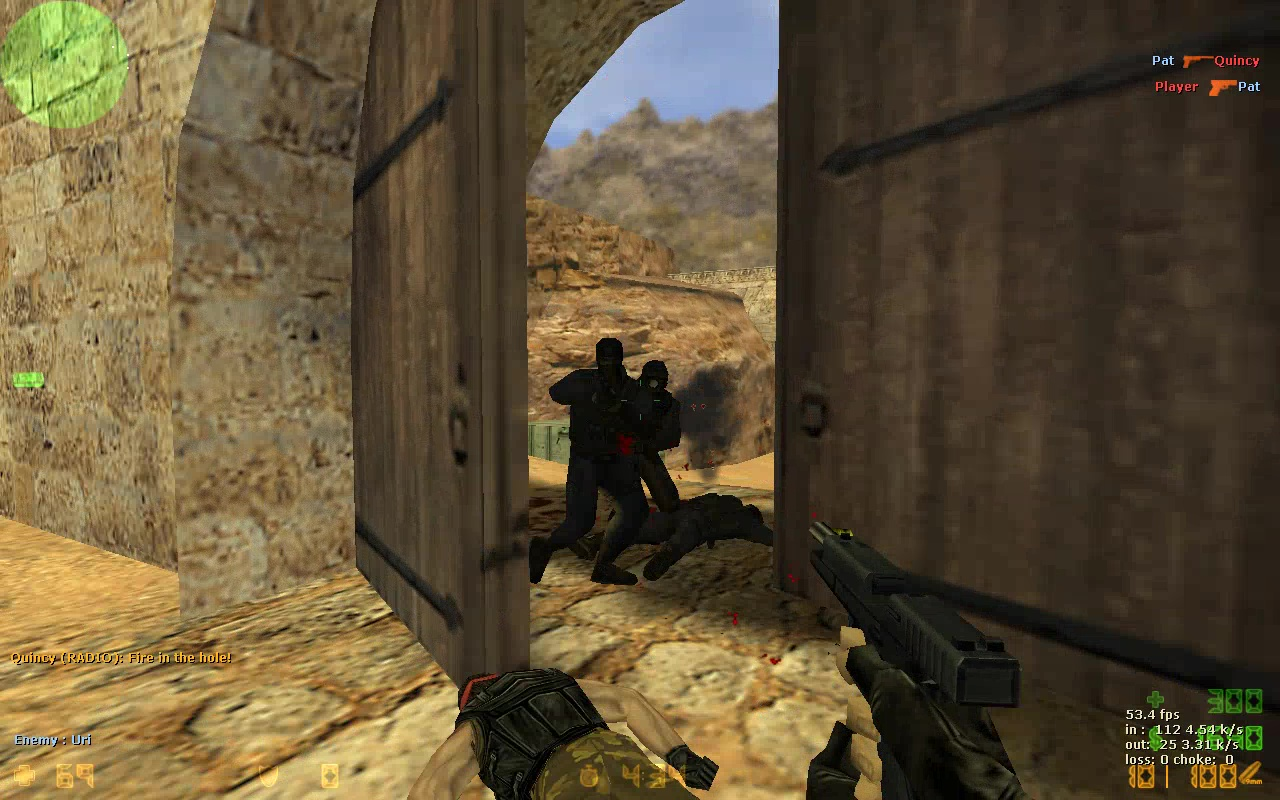ct: (529, 337, 649, 589), (624, 364, 680, 555)
dead: (390, 666, 726, 799)
